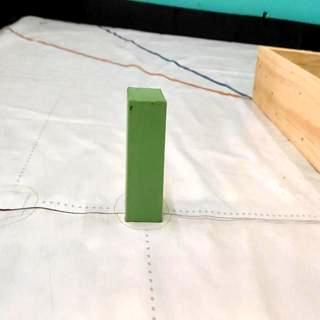greenbox: (126, 86, 168, 222)
